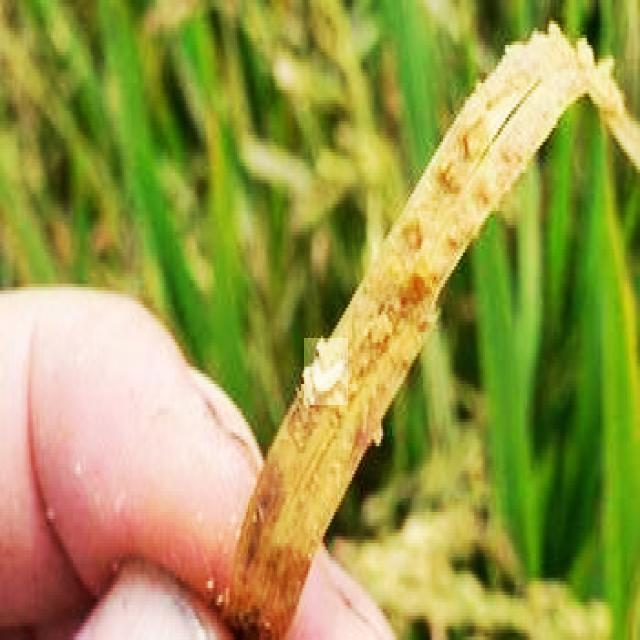whorl-maggot: (305, 338, 349, 405)
